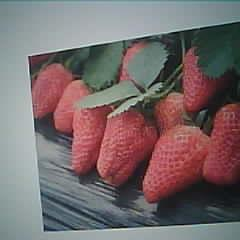straw-ripe: (142, 126, 208, 201), (97, 113, 154, 182), (204, 105, 240, 182)
